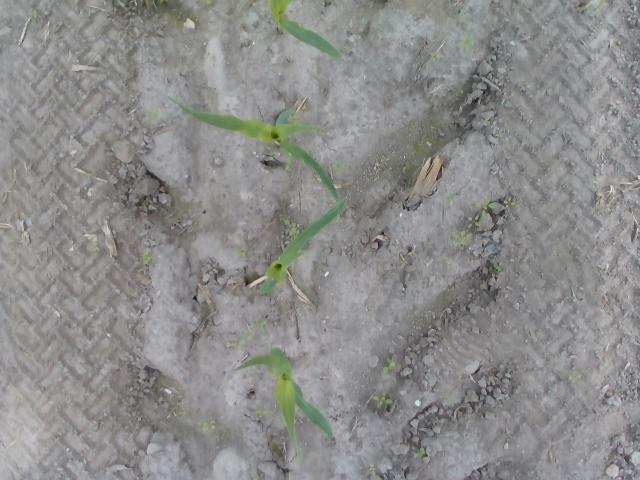Maize: (167, 96, 346, 214), (232, 344, 338, 465), (258, 197, 346, 294), (268, 0, 346, 64)
Weeds: (232, 316, 266, 350), (372, 390, 394, 412), (280, 215, 300, 238), (449, 230, 471, 246), (197, 419, 218, 434), (455, 35, 477, 49), (474, 199, 496, 210), (145, 106, 161, 120), (384, 357, 396, 375), (256, 407, 274, 418), (466, 214, 480, 228), (503, 196, 517, 208), (142, 250, 152, 266), (332, 162, 345, 173), (368, 464, 378, 478), (286, 153, 293, 172), (238, 246, 249, 258), (416, 446, 426, 458), (430, 52, 442, 62), (495, 263, 505, 272), (336, 214, 344, 224), (568, 373, 576, 383)
